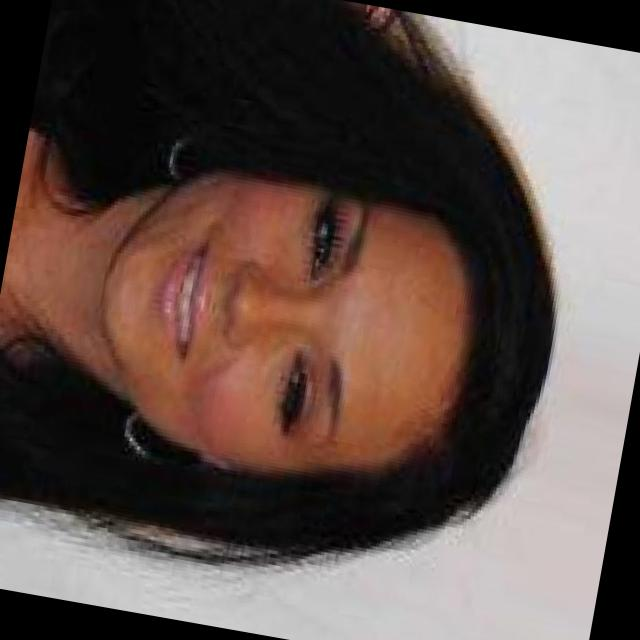bareface: (74, 156, 478, 514)
